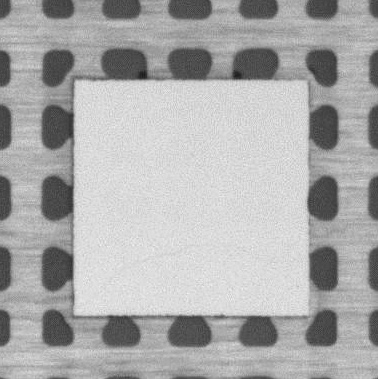DIE_CRACK: (102, 241, 217, 281)
